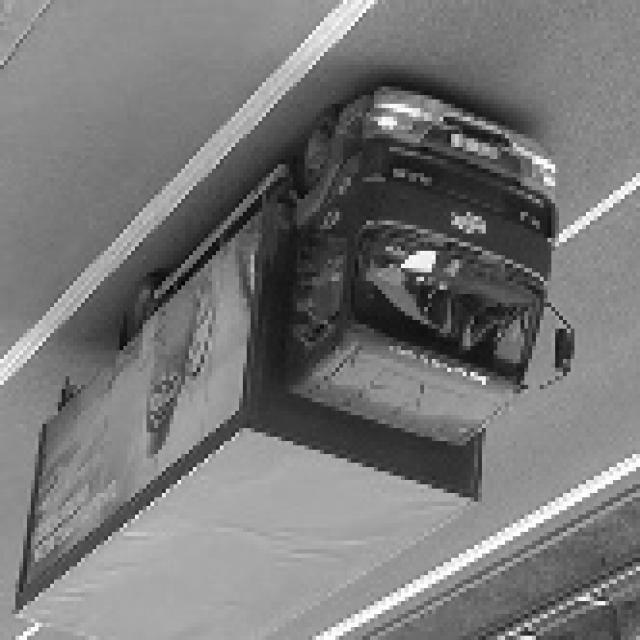truck: (272, 47, 595, 458)
